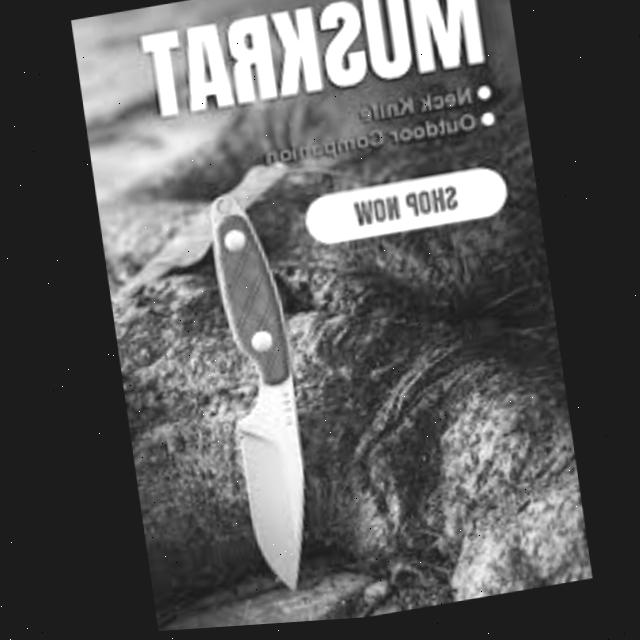Knife: (199, 158, 345, 599)
